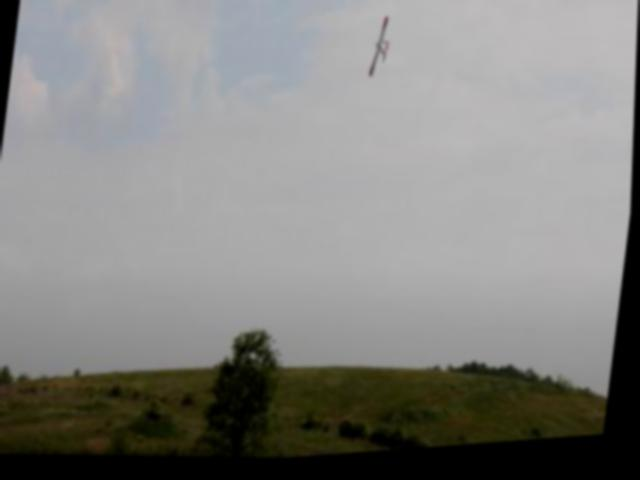uav: (362, 11, 397, 89)
